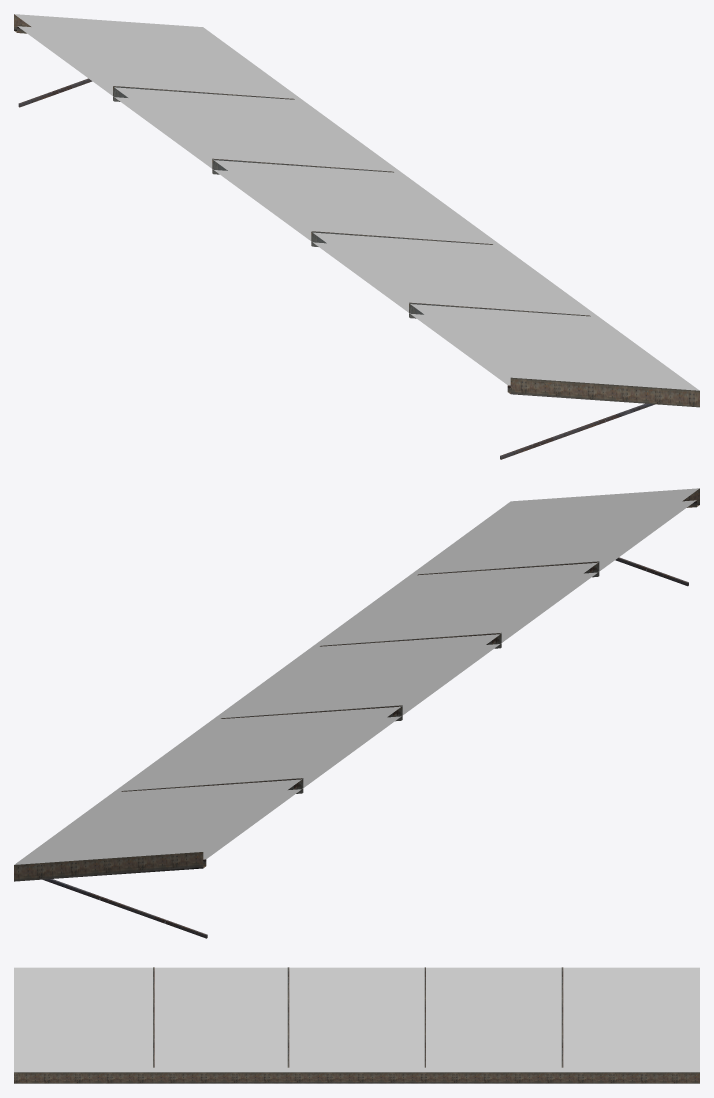
The model's file is AwningC.FBX.
The picture shows the model from 3 angles, top to bottom: view 1: azimuth 30°, elevation 25°; view 2: azimuth 150°, elevation 25°; view 3: azimuth 270°, elevation 25°; orthographic projection. The views are drawn at different scales.
Parts seen in each view (by area): view 1: AwningC; view 2: AwningC; view 3: AwningC.
Boxes of the visible parts, x1,y1,x2,y2 form: AwningC: (14, 14, 699, 459); AwningC: (14, 488, 699, 938); AwningC: (14, 967, 699, 1083).
Bounding box in the file's own units: 298 × 136 × 1353.
